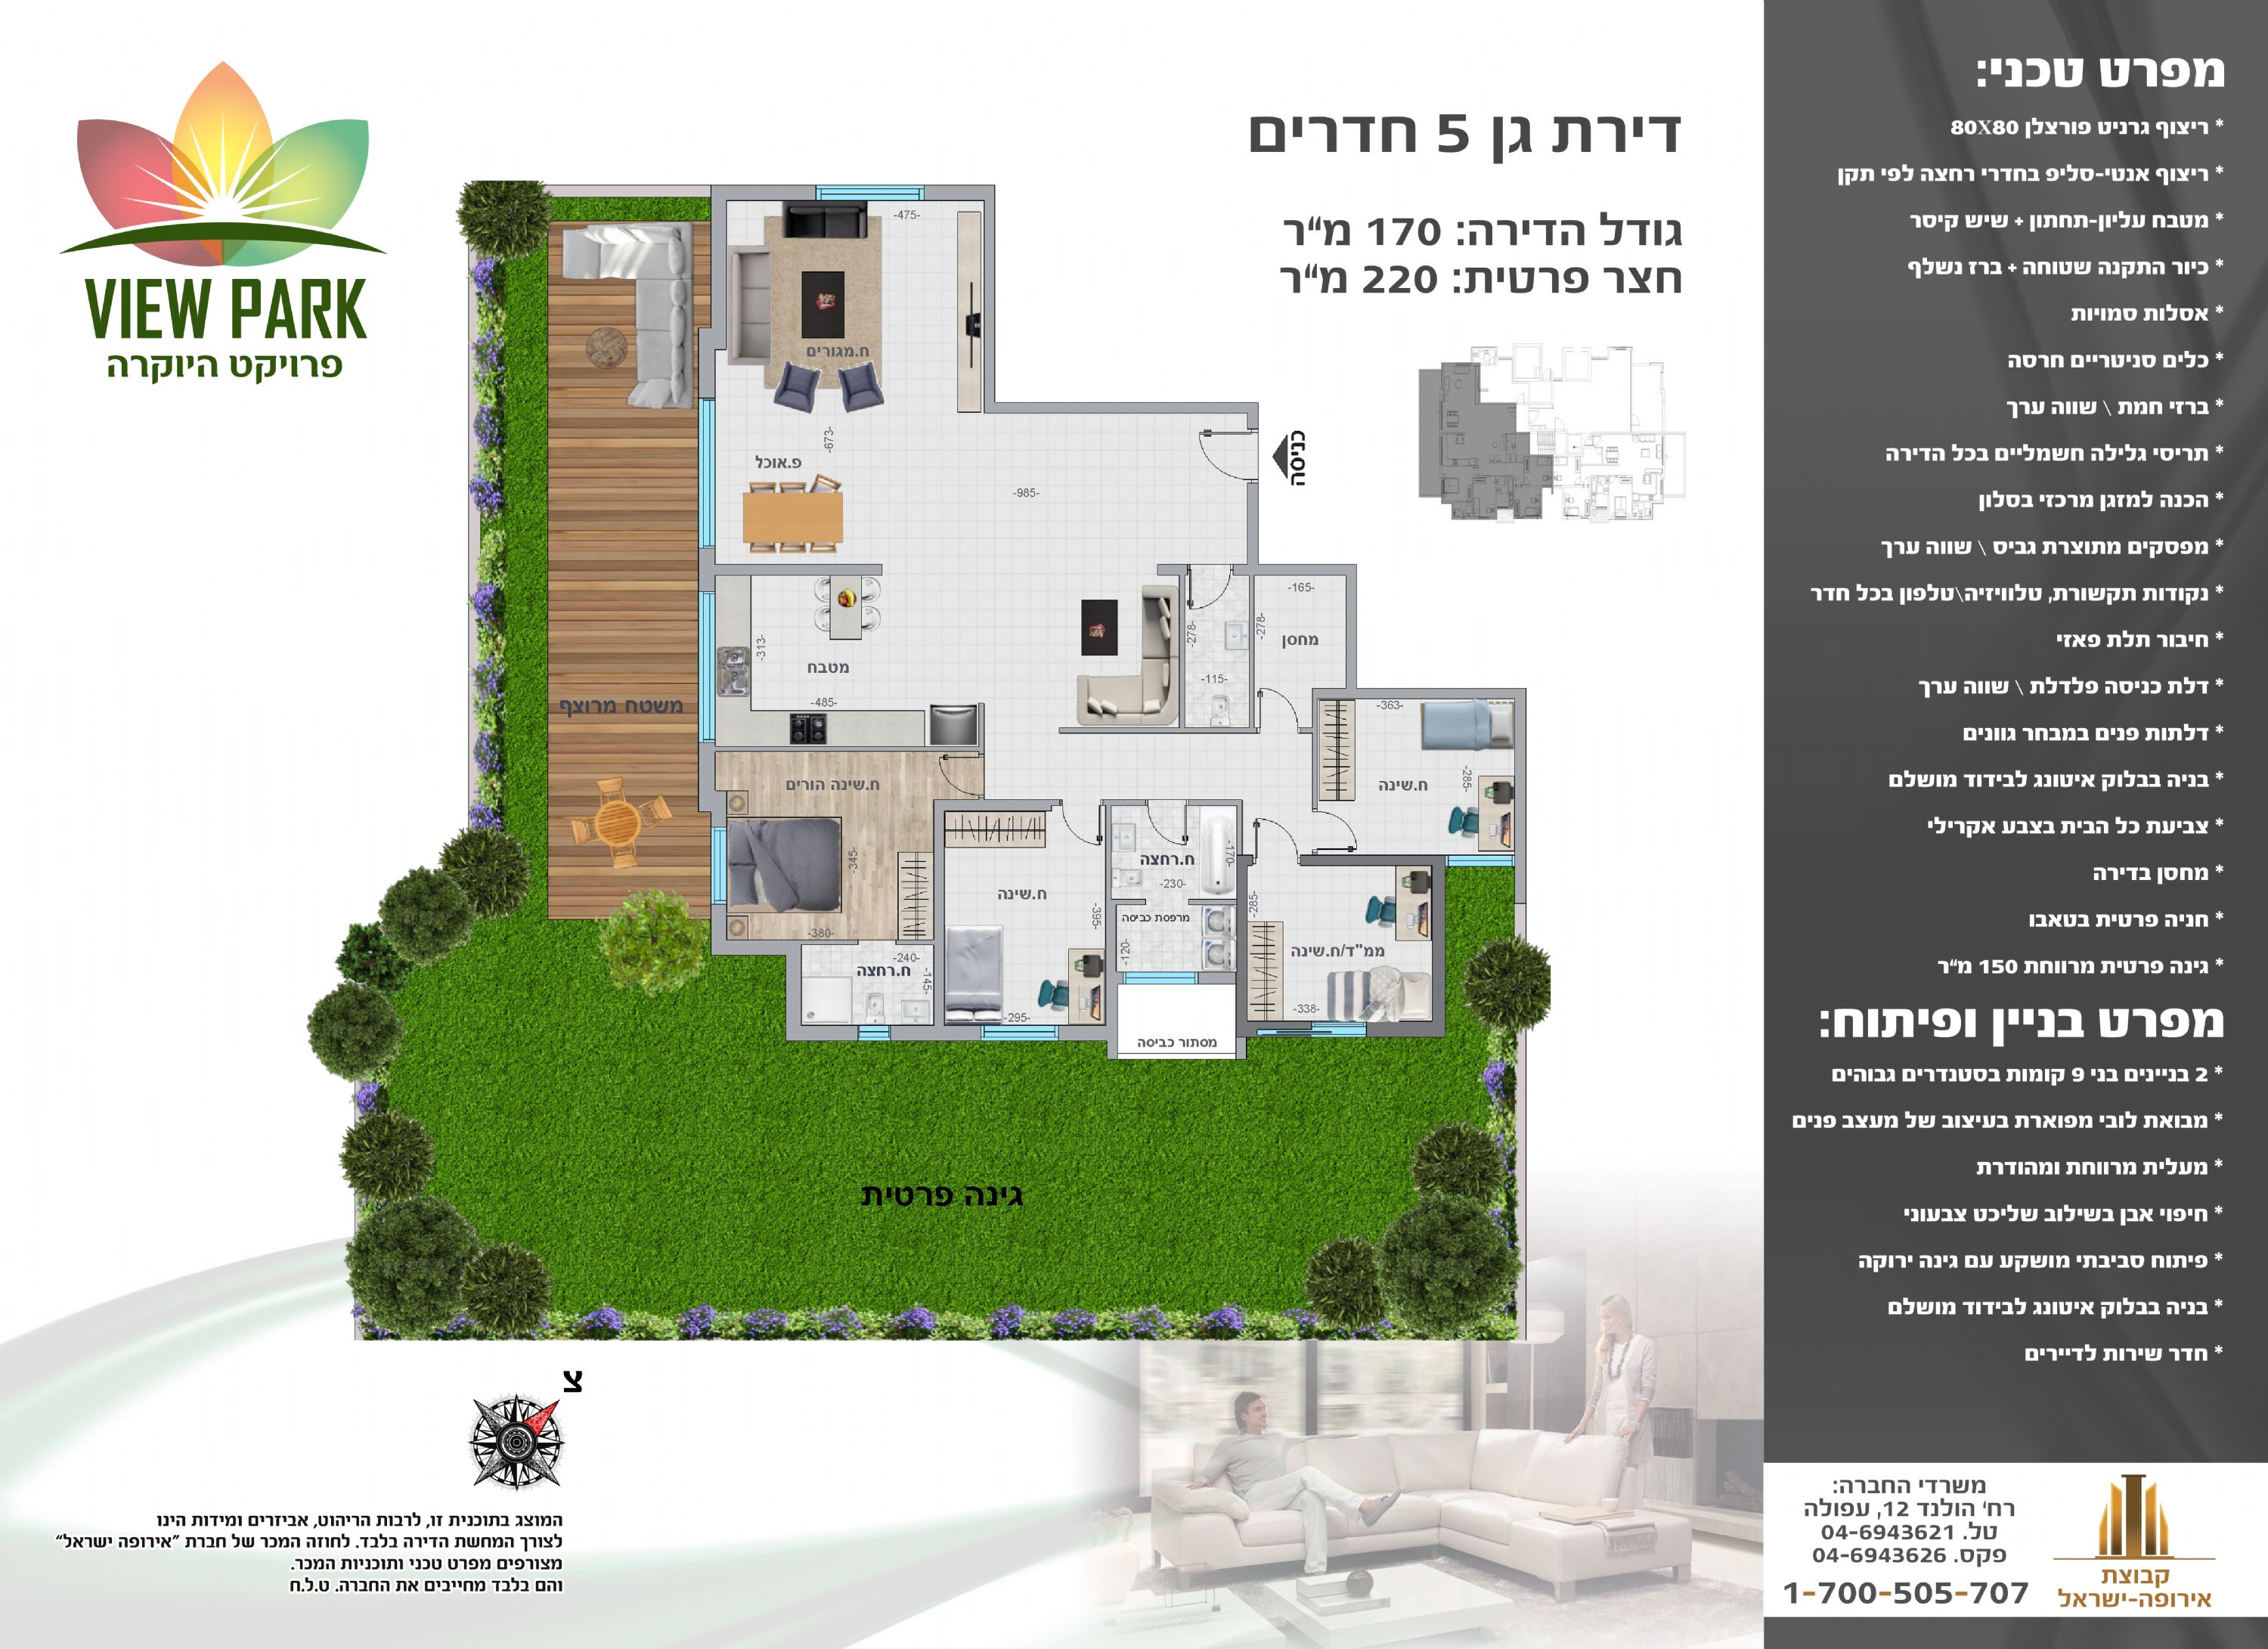door: (1189, 421, 1240, 486), (1247, 807, 1300, 847), (1143, 814, 1197, 849), (1321, 805, 1358, 854), (1058, 809, 1102, 849), (1257, 687, 1303, 724), (1187, 576, 1226, 617), (939, 752, 963, 796)
wall: (1514, 689, 1528, 902), (931, 800, 944, 1041), (1432, 854, 1447, 1039), (984, 201, 997, 416), (710, 185, 725, 351), (988, 403, 1257, 412), (1315, 689, 1530, 699), (1236, 854, 1248, 1036), (1301, 854, 1442, 867), (1345, 564, 1358, 698), (1247, 566, 1363, 574), (926, 185, 993, 199)
window: (699, 398, 715, 546), (701, 592, 717, 740), (819, 185, 924, 197), (981, 1025, 1058, 1041), (711, 826, 724, 902), (1123, 972, 1199, 983), (1312, 1024, 1365, 1038), (859, 1027, 886, 1039)
